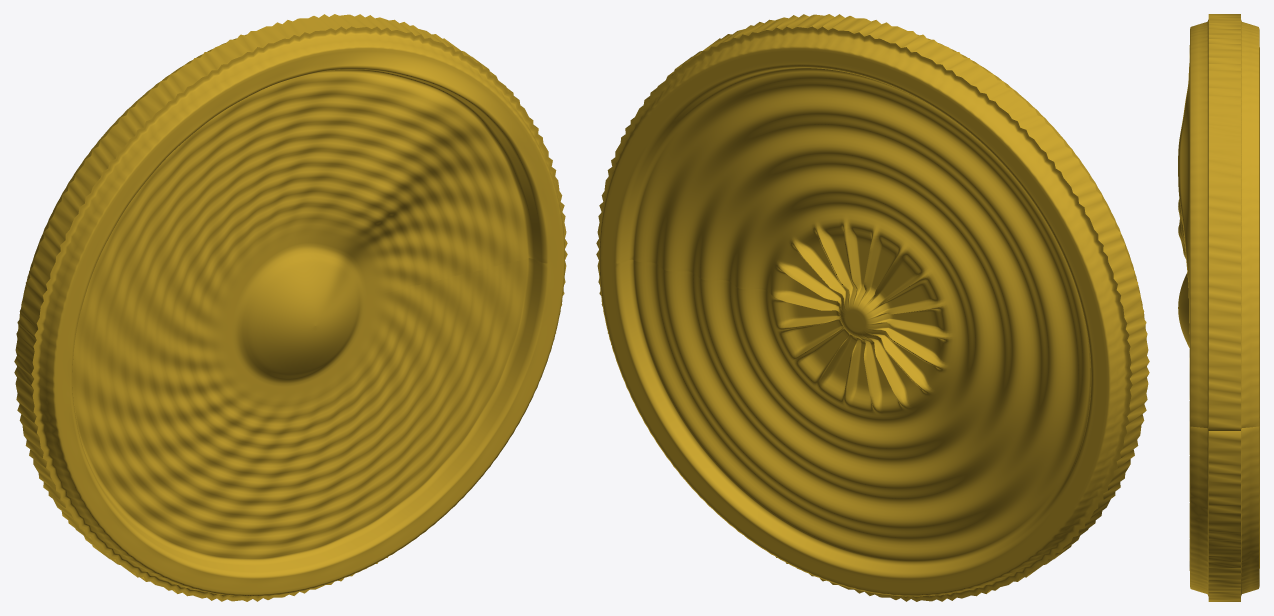
The model's file is coin.glb.
3 views of the same model, side by side, from view 1: azimuth 30°, elevation 25°; view 2: azimuth 150°, elevation 25°; view 3: azimuth 270°, elevation 25° (orthographic). The views are drawn at different scales.
Parts seen in each view (by area): view 1: obverse, rim, reverse; view 2: reverse, rim, obverse; view 3: rim, obverse, reverse.
Boxes of the visible parts, x1,y1,x2,y2 form: obverse: (31,26,567,601); rim: (14,14,541,600); reverse: (17,34,246,339); reverse: (596,26,1132,601); rim: (622,14,1149,600); obverse: (917,34,1146,339); rim: (1208,14,1240,601); obverse: (1178,19,1208,596); reverse: (1241,20,1259,595).
Size of the model in its own units: 2 by 2 by 0.2784.
